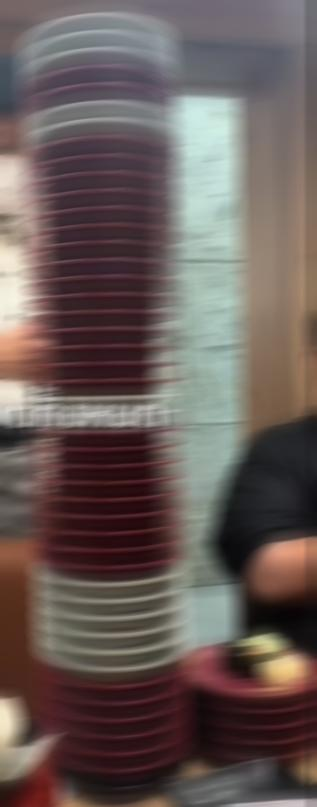Janback: (50, 782, 187, 795)
Janred: (176, 644, 317, 695), (36, 184, 182, 203), (40, 274, 187, 290), (42, 342, 190, 357), (30, 152, 186, 166), (39, 308, 192, 322), (38, 255, 188, 269), (41, 325, 188, 339), (32, 136, 185, 149), (33, 66, 185, 79), (39, 203, 180, 217), (36, 221, 184, 234), (191, 699, 317, 714), (32, 170, 176, 183), (38, 294, 186, 306), (38, 244, 184, 256), (38, 84, 183, 96), (37, 527, 175, 539), (41, 360, 191, 371), (42, 379, 190, 389), (39, 497, 170, 508), (43, 481, 171, 492), (39, 546, 170, 556), (45, 463, 173, 473), (36, 448, 178, 457), (48, 746, 186, 755), (63, 761, 175, 772), (41, 432, 177, 441), (58, 731, 177, 741), (201, 720, 317, 730), (51, 713, 186, 721), (44, 562, 178, 570), (37, 514, 170, 522), (57, 698, 178, 706), (186, 744, 260, 757), (54, 681, 174, 689), (207, 736, 317, 744), (269, 749, 317, 761)
Janwhite: (18, 10, 190, 25), (28, 30, 186, 42), (42, 626, 184, 639), (50, 595, 182, 608), (32, 103, 187, 114), (39, 118, 181, 130), (47, 581, 183, 592), (35, 47, 183, 57), (55, 615, 182, 624), (48, 648, 180, 656), (51, 663, 175, 671), (46, 396, 190, 400)
